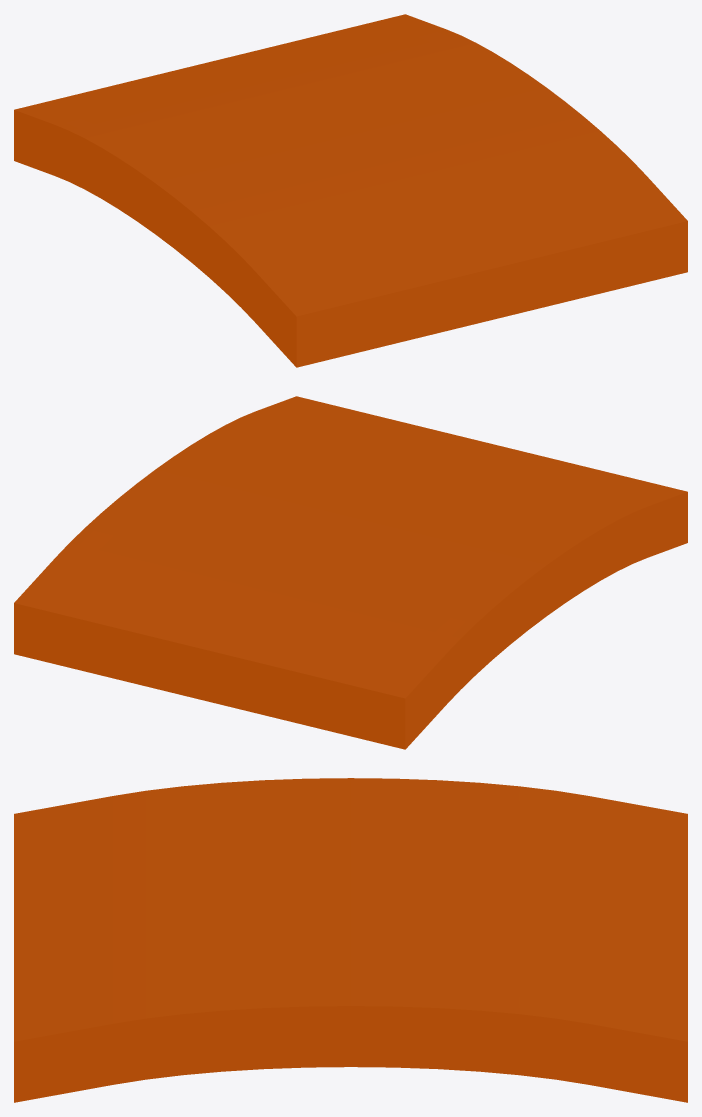
File: tes.fbx
The picture shows the model from 3 angles, top to bottom: view 1: azimuth 30°, elevation 25°; view 2: azimuth 150°, elevation 25°; view 3: azimuth 270°, elevation 25°; orthographic projection. The views are drawn at different scales.
Parts seen in each view (by area): view 1: BridgePart; view 2: BridgePart; view 3: BridgePart.
Boxes of the visible parts, bbox=[...] form: BridgePart: bbox=[14, 14, 687, 367]; BridgePart: bbox=[14, 396, 687, 749]; BridgePart: bbox=[14, 778, 687, 1102].
Size of the model in its own units: 8 by 10 by 1.59.
